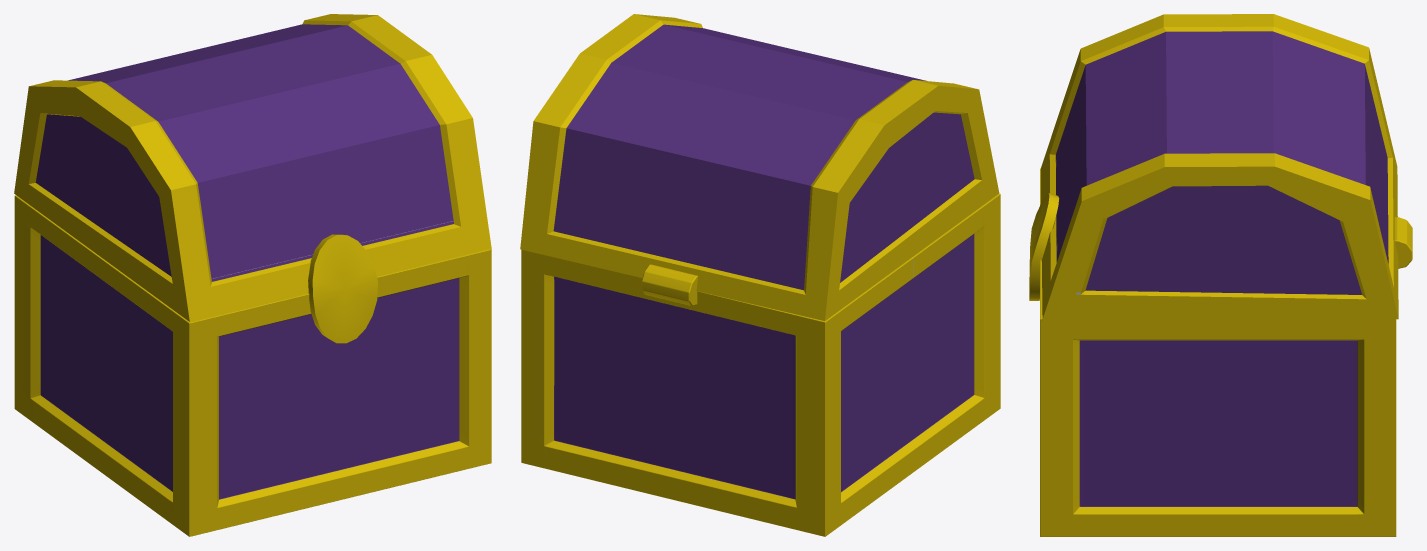
The model's file is caja_cerrada.fbx.
The picture shows the model from 3 angles, left to right: view 1: azimuth 30°, elevation 25°; view 2: azimuth 150°, elevation 25°; view 3: azimuth 270°, elevation 25°; orthographic projection. The views are drawn at different scales.
Parts seen in each view (by area): view 1: polySurface1; view 2: polySurface1; view 3: polySurface1.
Boxes of the visible parts, x1,y1,x2,y2 form: polySurface1: (14,14,491,536); polySurface1: (520,14,1000,536); polySurface1: (1029,14,1412,536).
Size of the model in its own units: 104 by 119 by 111.
